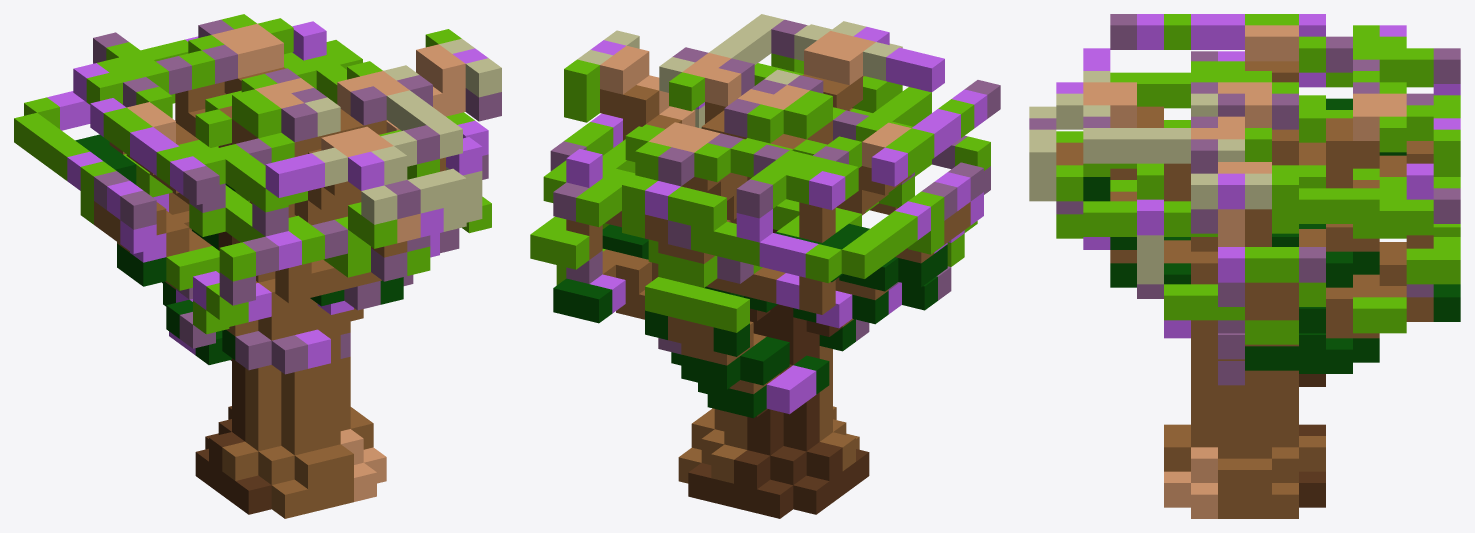
The model's file is Laura_Daniela_Ibañez_Rodríguez_fase_3.obj.
3 views of the same model, side by side, from view 1: azimuth 30°, elevation 25°; view 2: azimuth 150°, elevation 25°; view 3: azimuth 270°, elevation 25° (orthographic).
Visible parts, largest first — view 1: Laura_Daniela_Ibañez_Rodríguez_fase_3; view 2: Laura_Daniela_Ibañez_Rodríguez_fase_3; view 3: Laura_Daniela_Ibañez_Rodríguez_fase_3.
Boxes of the visible parts, <box> form: Laura_Daniela_Ibañez_Rodríguez_fase_3: <box>14,14,501,518</box>; Laura_Daniela_Ibañez_Rodríguez_fase_3: <box>530,14,1000,518</box>; Laura_Daniela_Ibañez_Rodríguez_fase_3: <box>1029,14,1460,518</box>.
Bounding box in the file's own units: 16 × 16 × 16.
Materials: 1 (1 with a texture image).
